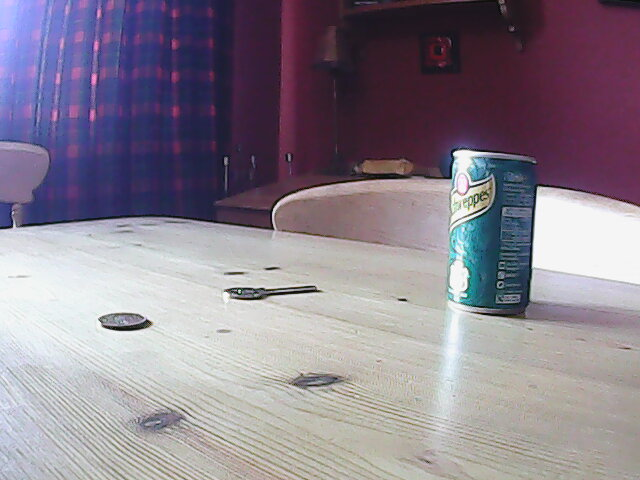Can: (443, 147, 537, 317)
Coin: (95, 312, 153, 331)
Key: (222, 282, 323, 304)
